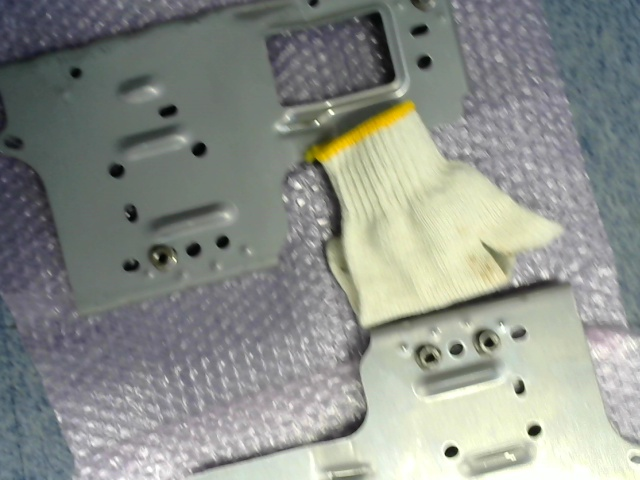dog: (149, 244, 177, 272), (473, 329, 500, 357), (415, 343, 441, 372)
